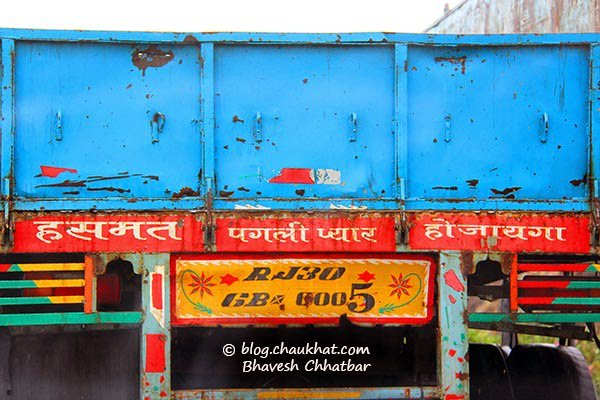number_plate: (170, 254, 438, 327)
